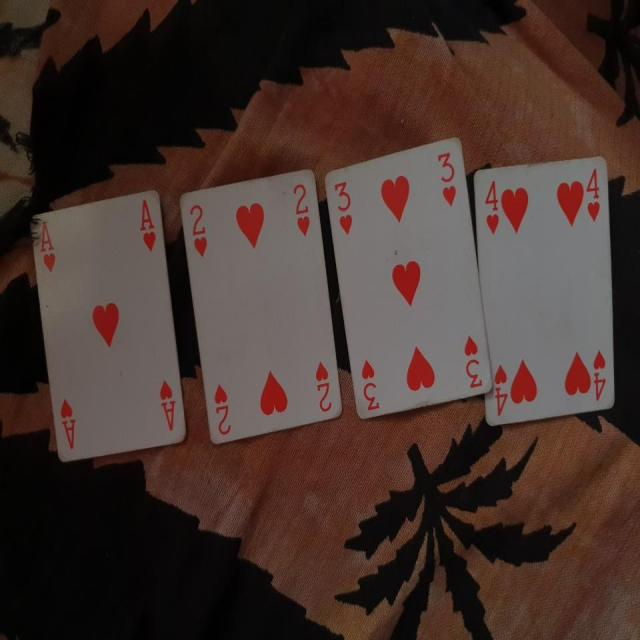2 Hearts: (178, 162, 346, 460)
3 Hearts: (324, 134, 493, 446)
4 Hearts: (471, 144, 618, 438)
A Hearts: (23, 186, 186, 466)
